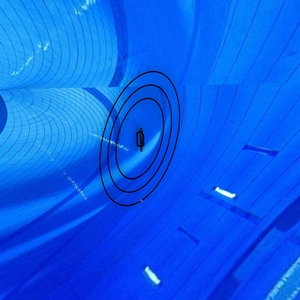circle: (98, 68, 186, 210)
submarine: (129, 127, 152, 152)
